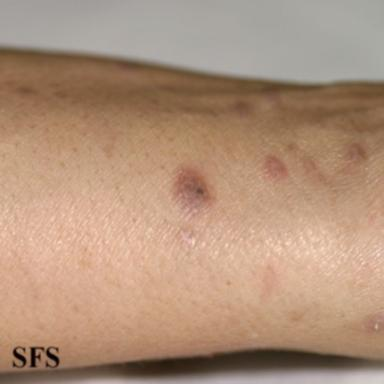lichen: (172, 168, 215, 213), (263, 156, 287, 184), (344, 143, 367, 167), (364, 311, 384, 335), (176, 227, 197, 247), (233, 102, 254, 119), (12, 86, 36, 97), (302, 159, 317, 175), (119, 62, 138, 70)
